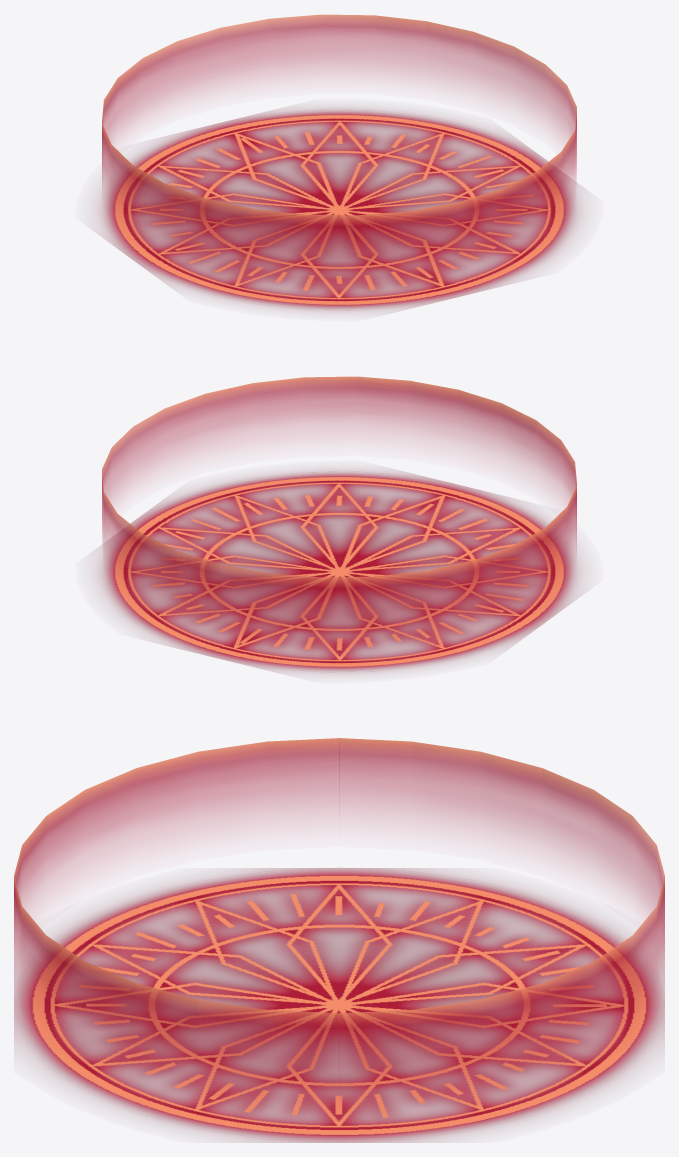
File: fx_bloom_asc.glb
3 renders of one model, top to bottom at view 1: azimuth 30°, elevation 25°; view 2: azimuth 150°, elevation 25°; view 3: azimuth 270°, elevation 25°, orthographic. The views are drawn at different scales.
Parts seen in each view (by area): view 1: fx_bloom_rune, fx_bloom_veil; view 2: fx_bloom_rune, fx_bloom_veil; view 3: fx_bloom_rune, fx_bloom_veil.
Part boxes in pixels (x1,y1,x2,y2): fx_bloom_rune: (98, 108, 580, 311); fx_bloom_veil: (102, 14, 576, 271); fx_bloom_rune: (98, 470, 580, 673); fx_bloom_veil: (102, 376, 576, 636); fx_bloom_rune: (14, 868, 664, 1142); fx_bloom_veil: (14, 738, 664, 1098).
Bounding box in the file's own units: 1 × 0.22 × 1.
2 materials, 2 textured.
